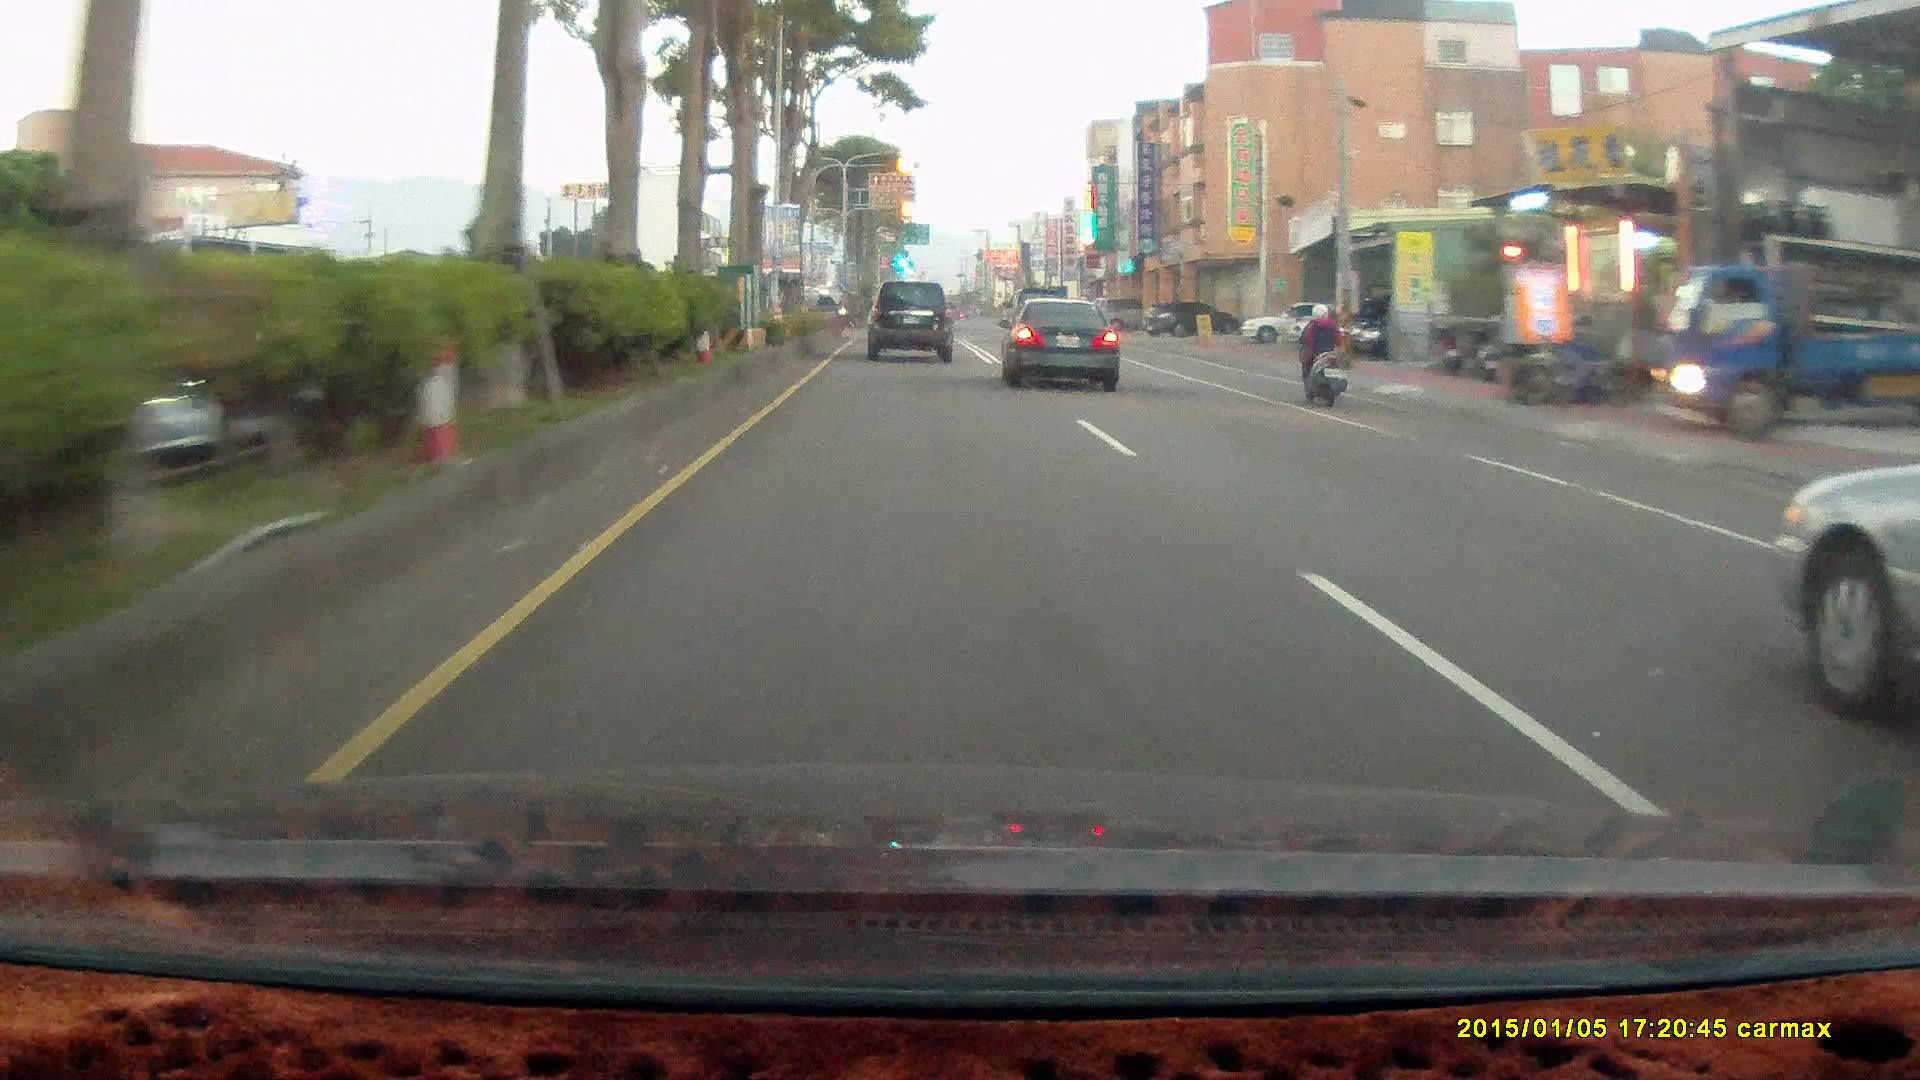rider: (1286, 295, 1359, 414), (1289, 300, 1348, 405)
vehicle: (1655, 242, 1920, 434), (1654, 259, 1920, 435), (1762, 435, 1918, 734), (1771, 430, 1920, 737), (1003, 296, 1126, 393), (998, 294, 1122, 388), (871, 279, 956, 366), (1347, 298, 1466, 359), (866, 279, 951, 362), (1240, 300, 1358, 345), (1145, 302, 1235, 337), (1094, 294, 1164, 330), (1096, 296, 1161, 332)
